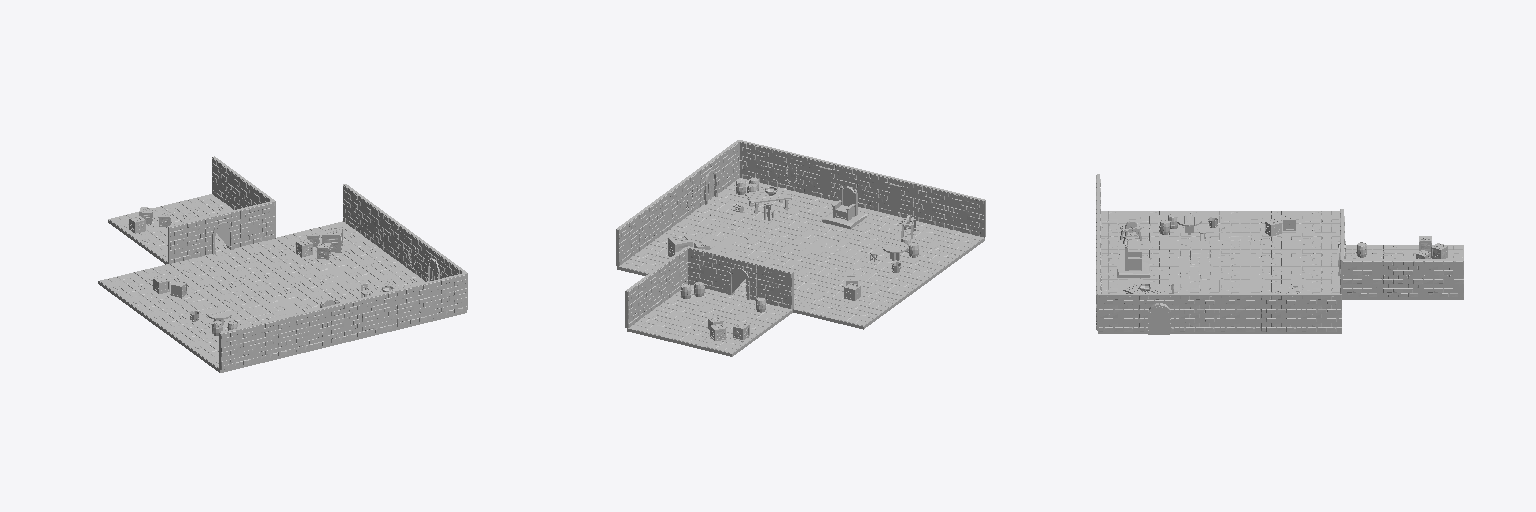
File: dungeon.obj
The picture shows the model from 3 angles: view 1: azimuth 30°, elevation 25°; view 2: azimuth 150°, elevation 25°; view 3: azimuth 270°, elevation 25°; orthographic projection.
Visible parts, largest first — view 1: Wall_damaged_2.017_Plane.116, Wall_damaged_2.004_Plane.099, Wall_damaged_2.011_Plane.110, Wall_damaged_2.016_Plane.115, Wall_damaged_2.014_Plane.113, Wall_damaged_2.013_Plane.112, Wall_damaged_2.015_Plane.114, Wall_damaged_2.012_Plane.111, Wall_damaged_2.003_Plane.098, Wall_Door_Plane.086, Wall_damaged_2.005_Plane.100, Wall_damaged_2.006_Plane.102 (+28 smaller); view 2: Wall_damaged_2.017_Plane.116, Wall_damaged_2.004_Plane.099, Wall_damaged_2.013_Plane.112, Wall_damaged_2.016_Plane.115, Wall_damaged_2.003_Plane.098, Wall_damaged_2.015_Plane.114, Wall_Door_Plane.086, Wall_damaged_2.012_Plane.111, Throne_Plane.126, Wall_damaged_2.011_Plane.110, Wall_damaged_2.014_Plane.113, Wall_damaged_2.001_Plane.093 (+28 smaller); view 3: Wall_Space_Plane.091, Wall_damaged_2_Plane.089, Wall_damaged_2.001_Plane.093, Wall_damaged_2.002_Plane.094, Wall_damaged_2.007_Plane.103, Wall_damaged_2.005_Plane.100, Wall_damaged_2.008_Plane.107, Wall_damaged_2.006_Plane.102, Wall_damaged_2.009_Plane.108, Throne_Plane.126, Floor_2.053_Plane.047, Floor_2.045_Plane.057 (+19 smaller).
Part boxes in pixels (x1,y1,x2,y2): Wall_damaged_2.017_Plane.116: (219,324,255,370); Wall_damaged_2.004_Plane.099: (168,218,204,263); Wall_damaged_2.011_Plane.110: (290,307,326,353); Wall_damaged_2.016_Plane.115: (396,281,431,327); Wall_damaged_2.014_Plane.113: (360,290,396,335); Wall_damaged_2.013_Plane.112: (255,316,290,361); Wall_damaged_2.015_Plane.114: (431,273,466,318); Wall_damaged_2.012_Plane.111: (326,299,361,344); Wall_damaged_2.003_Plane.098: (239,201,274,246); Wall_Door_Plane.086: (204,209,239,254); Wall_damaged_2.005_Plane.100: (363,199,386,250); Wall_damaged_2.006_Plane.102: (343,184,365,234); Wall_damaged_2.017_Plane.116: (949,191,985,237); Wall_damaged_2.004_Plane.099: (757,264,793,309); Wall_damaged_2.013_Plane.112: (914,183,950,228); Wall_damaged_2.016_Plane.115: (773,148,809,194); Wall_damaged_2.003_Plane.098: (688,246,722,292); Wall_damaged_2.015_Plane.114: (740,140,774,184); Wall_Door_Plane.086: (722,255,758,300); Wall_damaged_2.012_Plane.111: (844,166,879,211); Throne_Plane.126: (822,185,866,228); Wall_damaged_2.011_Plane.110: (879,174,914,217); Wall_damaged_2.014_Plane.113: (809,157,844,200); Wall_damaged_2.001_Plane.093: (625,276,648,327); Wall_Space_Plane.091: (1139,294,1179,334); Wall_damaged_2_Plane.089: (1342,259,1382,297); Wall_damaged_2.001_Plane.093: (1423,259,1463,297); Wall_damaged_2.002_Plane.094: (1383,259,1422,297); Wall_damaged_2.007_Plane.103: (1220,294,1260,331); Wall_damaged_2.005_Plane.100: (1261,294,1301,331); Wall_damaged_2.008_Plane.107: (1098,294,1138,331); Wall_damaged_2.006_Plane.102: (1302,294,1341,331); Wall_damaged_2.009_Plane.108: (1180,294,1219,331); Throne_Plane.126: (1117,237,1149,277); Floor_2.053_Plane.047: (1261,262,1301,279); Floor_2.045_Plane.057: (1220,262,1260,279).
Size of the model in its own units: 17.27 by 2.6 by 21.75.